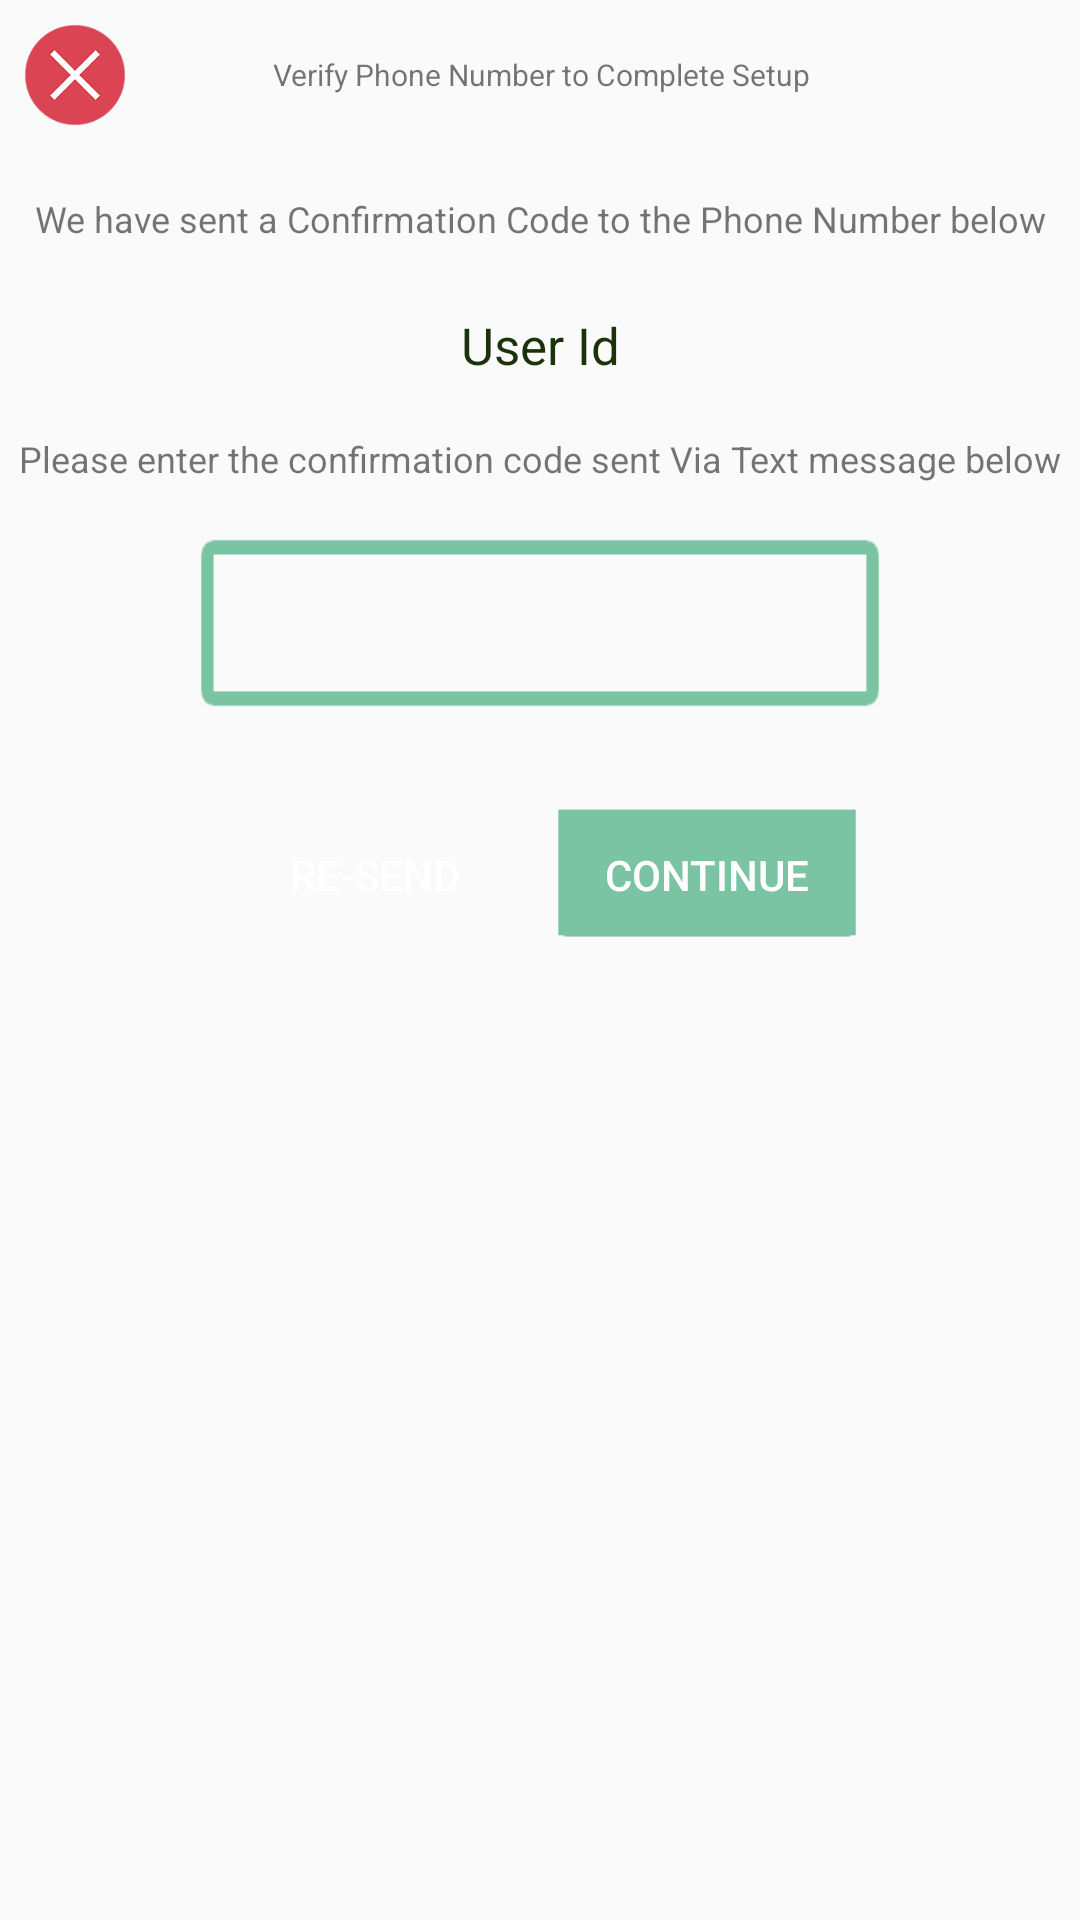

Named icons in this screenshot (1080×1920) and their bounding boxes, (x1, y1, x2, y2):
exit: (25, 25, 125, 125)
